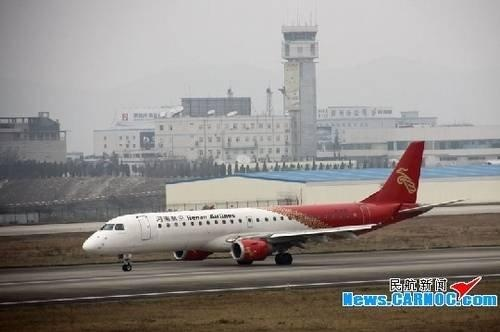airplane: (75, 138, 462, 268)
